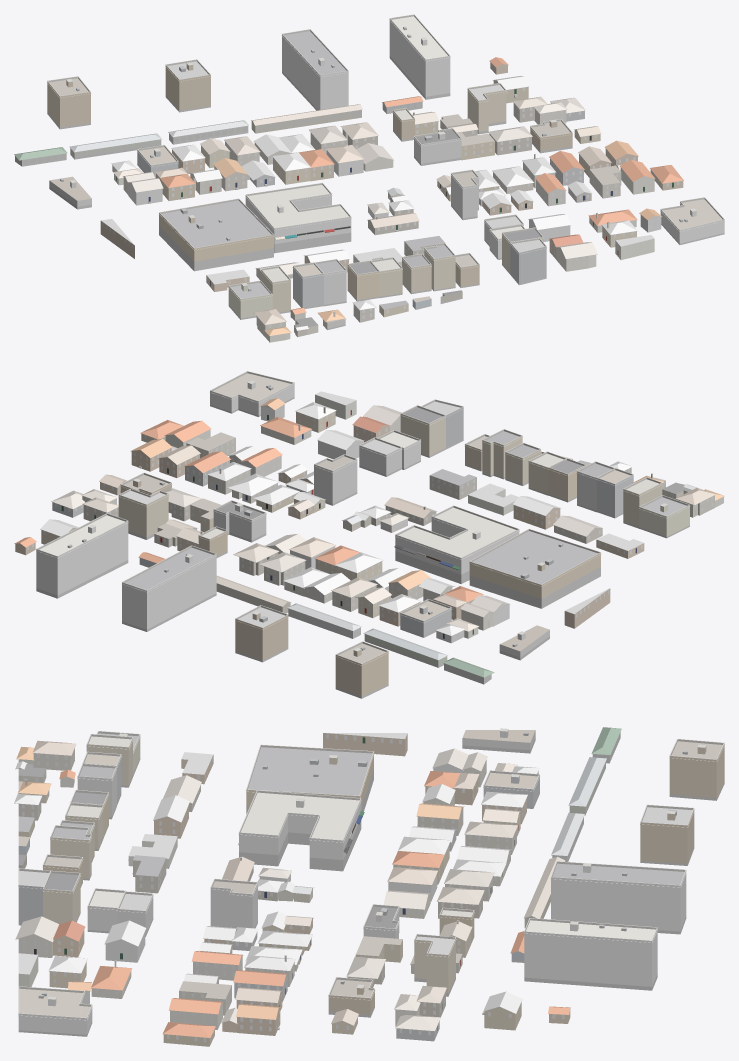
The model's file is bld_-2_-2.dae.
The picture shows the model from 3 angles, top to bottom: view 1: azimuth 30°, elevation 25°; view 2: azimuth 150°, elevation 25°; view 3: azimuth 270°, elevation 25°; orthographic projection. The views are drawn at different scales.
Parts seen in each view (by area): view 1: blda1911; view 2: blda1911; view 3: blda1911.
Part boxes in pixels (box(x1,y1,x2,y2)): blda1911: box(14, 14, 724, 342); blda1911: box(14, 371, 724, 698); blda1911: box(14, 727, 724, 1046).
Bounding box in the file's own units: 263 × 263 × 27.
